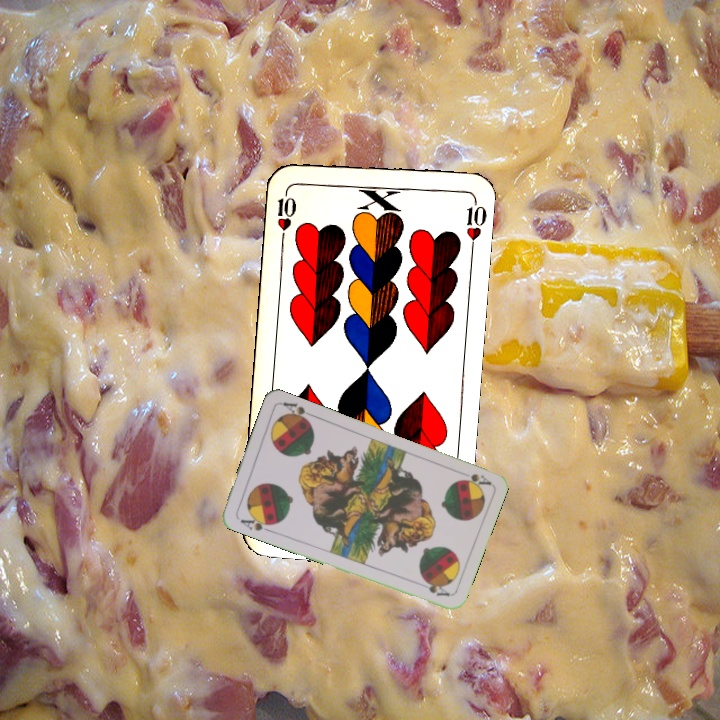H10: (273, 184, 299, 233)
SA: (236, 511, 276, 535), (456, 469, 493, 489)
